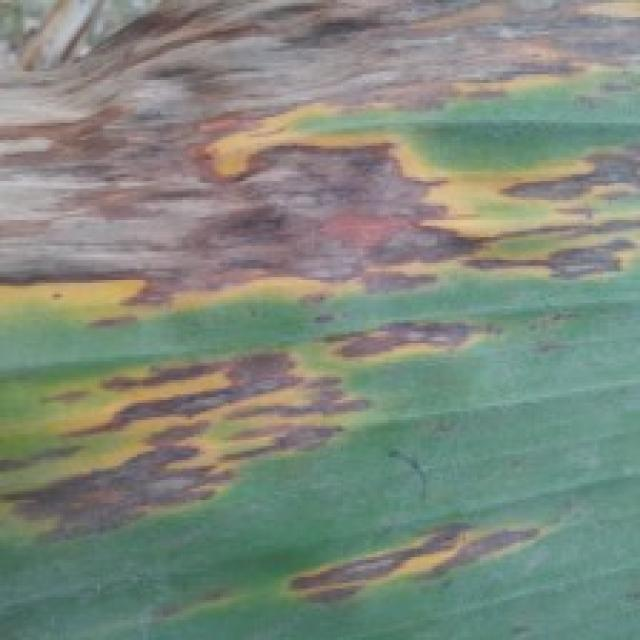Early_leaf_spot: (0, 0, 640, 306), (0, 308, 574, 640)
